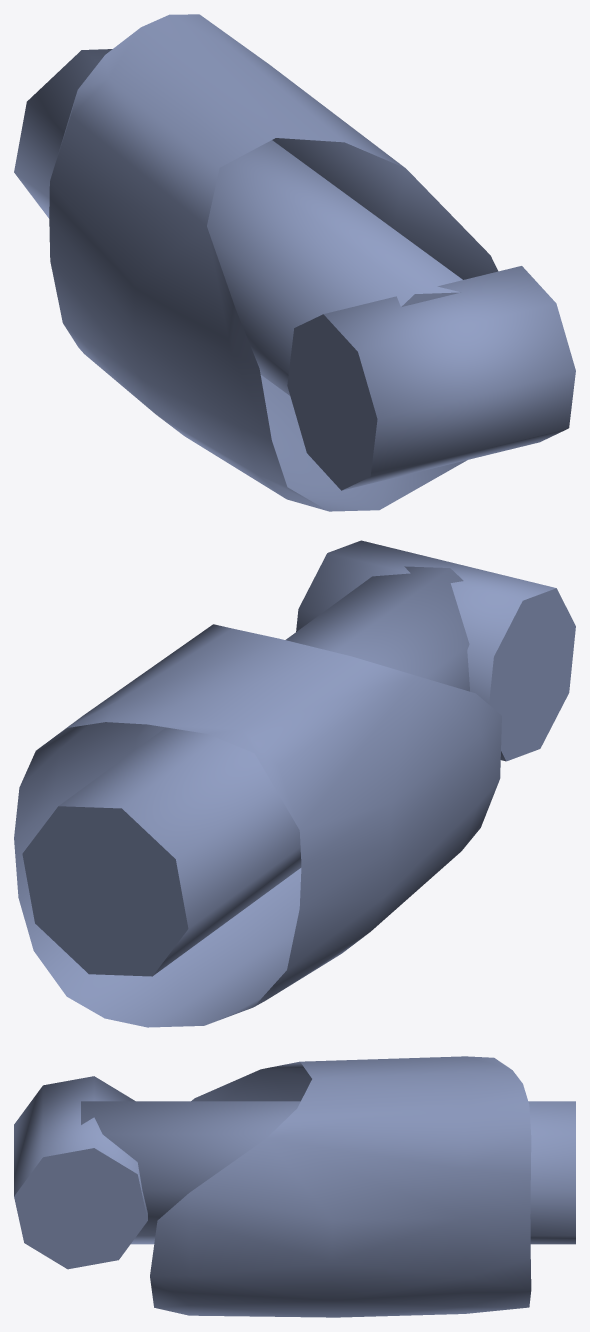
The model's file is icub_simple_collision_r_thigh.dae.
3 renders of one model, top to bottom at view 1: azimuth 30°, elevation 25°; view 2: azimuth 150°, elevation 25°; view 3: azimuth 270°, elevation 25°, orthographic. The views are drawn at different scales.
Visible parts, largest first — view 1: r_thigh_mesh; view 2: r_thigh_mesh; view 3: r_thigh_mesh.
Boxes of the visible parts, x1,y1,x2,y2 form: r_thigh_mesh: (14,14,575,511); r_thigh_mesh: (14,540,575,1027); r_thigh_mesh: (14,1056,575,1317).
Bounding box in the file's own units: 0.1024 × 0.1173 × 0.2543.
